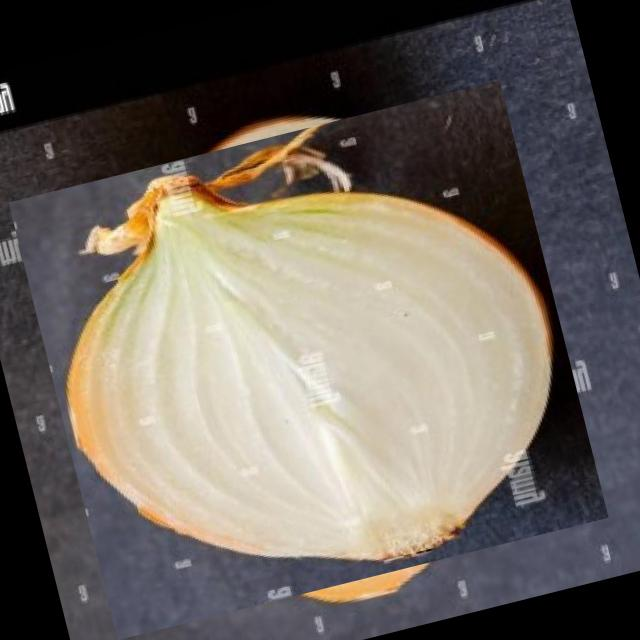Onion: (18, 69, 599, 640)
